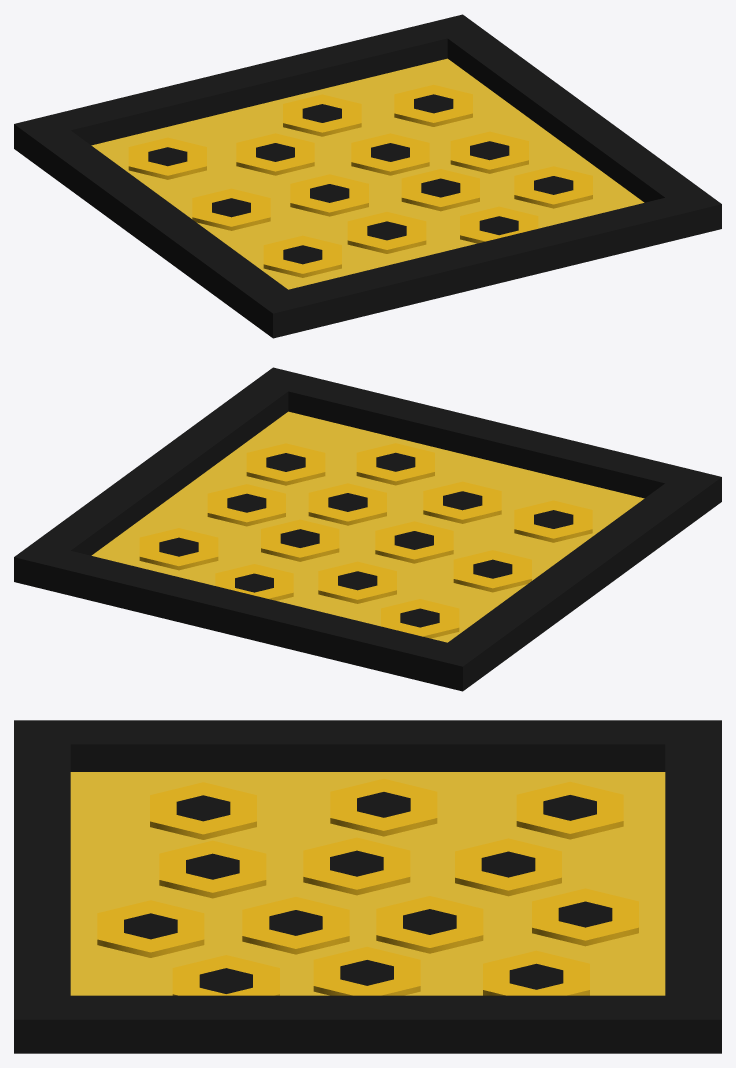
The model's file is trampaInactivaNvl2.fbx.
3 views of the same model, one above another, from view 1: azimuth 30°, elevation 25°; view 2: azimuth 150°, elevation 25°; view 3: azimuth 270°, elevation 25° (orthographic). The views are drawn at different scales.
Visible parts, largest first — view 1: Box007, Cylinder036, Cylinder033, Cylinder034, Cylinder039, Cylinder041, Cylinder044, Cylinder032, Cylinder037, Cylinder040, Cylinder043, Cylinder042 (+2 smaller); view 2: Box007, Cylinder044, Cylinder042, Cylinder040, Cylinder034, Cylinder037, Cylinder038, Cylinder033, Cylinder036, Cylinder039, Cylinder043, Cylinder035 (+2 smaller); view 3: Box007, Cylinder035, Cylinder032, Cylinder039, Cylinder036, Cylinder040, Cylinder038, Cylinder034, Cylinder037, Cylinder033, Cylinder041, Cylinder043 (+2 smaller).
Part boxes in pixels (left/top/right/bottom): Box007: left=14, top=14, right=721, bottom=338; Cylinder036: left=347, top=212, right=426, bottom=253; Cylinder033: left=236, top=133, right=314, bottom=175; Cylinder034: left=290, top=174, right=368, bottom=216; Cylinder039: left=351, top=133, right=429, bottom=175; Cylinder041: left=283, top=94, right=361, bottom=136; Cylinder044: left=514, top=166, right=592, bottom=208; Cylinder032: left=128, top=137, right=206, bottom=179; Cylinder037: left=263, top=235, right=341, bottom=277; Cylinder040: left=401, top=169, right=479, bottom=211; Cylinder043: left=450, top=131, right=528, bottom=173; Cylinder042: left=394, top=84, right=472, bottom=126; Box007: left=14, top=367, right=721, bottom=691; Cylinder044: left=246, top=443, right=325, bottom=485; Cylinder042: left=139, top=528, right=218, bottom=570; Cylinder040: left=308, top=483, right=386, bottom=525; Cylinder034: left=375, top=521, right=453, bottom=563; Cylinder037: left=514, top=500, right=592, bottom=542; Cylinder038: left=356, top=443, right=434, bottom=485; Cylinder033: left=318, top=561, right=396, bottom=603; Cylinder036: left=423, top=481, right=501, bottom=523; Cylinder039: left=261, top=519, right=339, bottom=561; Cylinder043: left=207, top=484, right=285, bottom=526; Cylinder035: left=453, top=550, right=531, bottom=592; Box007: left=14, top=720, right=721, bottom=1053; Cylinder035: left=330, top=778, right=437, bottom=836; Cylinder032: left=516, top=781, right=623, bottom=839; Cylinder039: left=376, top=896, right=483, bottom=953; Cylinder036: left=159, top=840, right=266, bottom=898; Cylinder040: left=242, top=897, right=349, bottom=954; Cylinder038: left=97, top=900, right=204, bottom=957; Cylinder034: left=303, top=837, right=410, bottom=895; Cylinder037: left=150, top=782, right=256, bottom=839; Cylinder033: left=455, top=838, right=561, bottom=896; Cylinder041: left=532, top=888, right=638, bottom=946; Cylinder043: left=313, top=946, right=420, bottom=995.
Size of the model in its own units: 1 by 0.0529 by 1.
